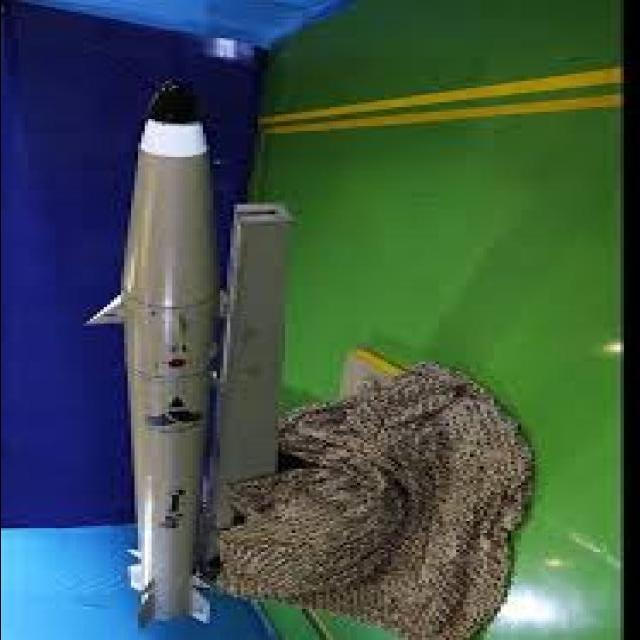missile: (108, 86, 225, 634)
